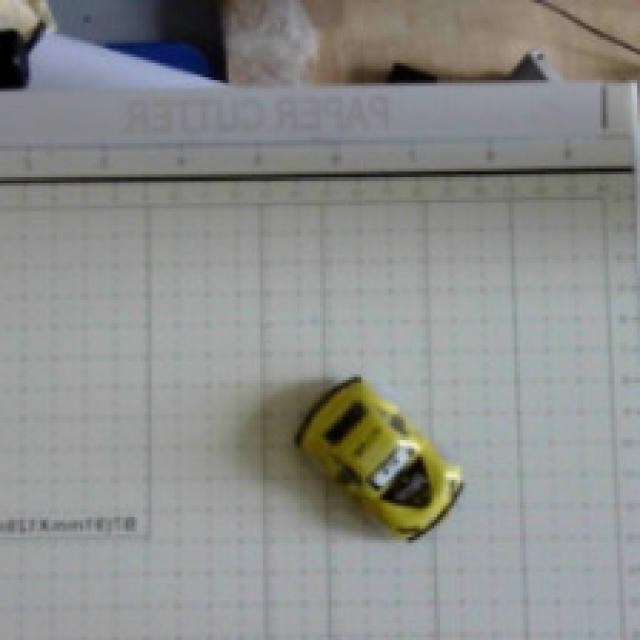Yellow Car: (240, 332, 502, 587)
